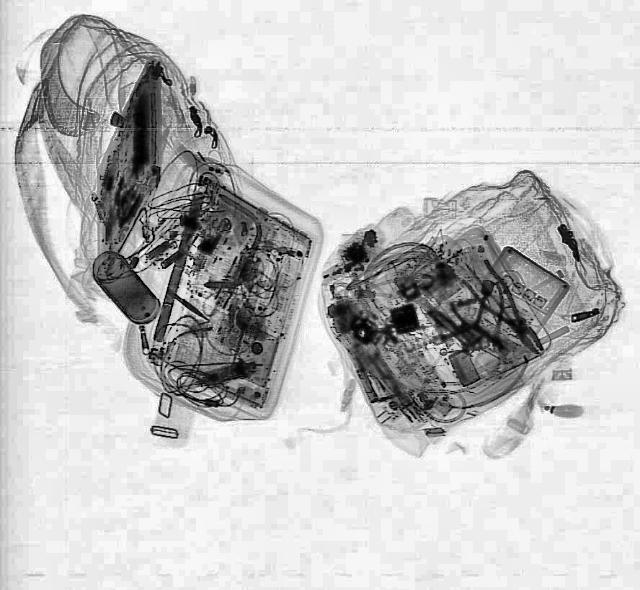Pliers: (455, 256, 557, 364)
